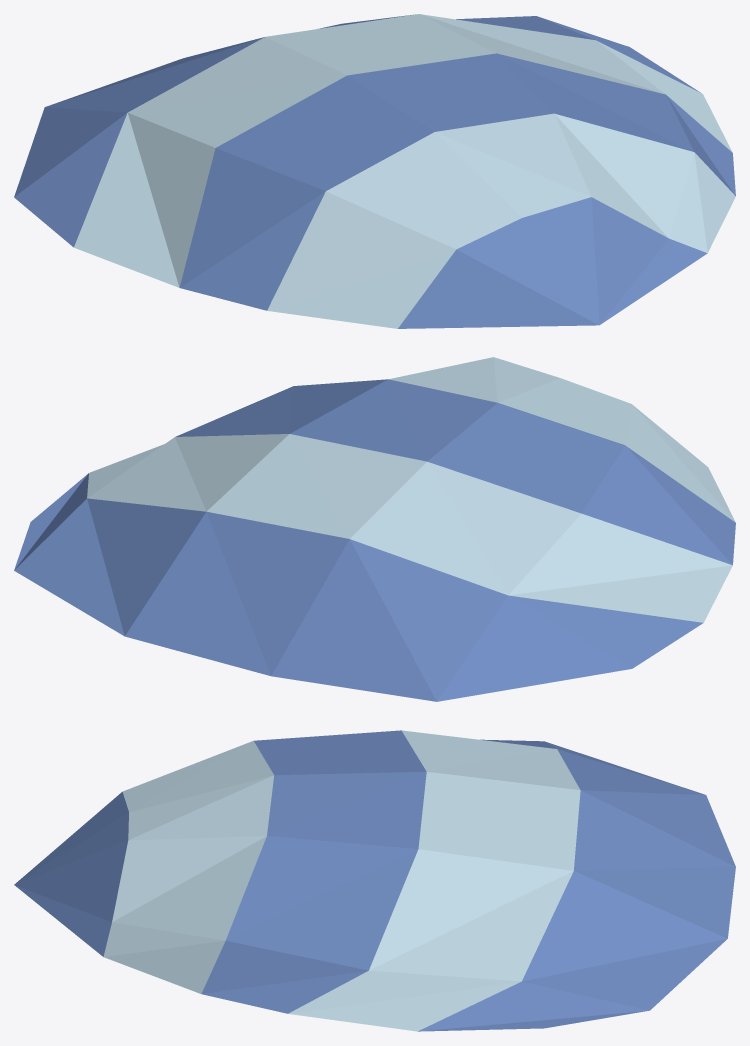
The model's file is zhuangshi_03.FBX.
3 views of the same model, one above another, from view 1: azimuth 30°, elevation 25°; view 2: azimuth 150°, elevation 25°; view 3: azimuth 270°, elevation 25° (orthographic). The views are drawn at different scales.
Parts seen in each view (by area): view 1: zhuangshi_03; view 2: zhuangshi_03; view 3: zhuangshi_03.
Part boxes in pixels (bbox=[...]): zhuangshi_03: bbox=[14, 14, 735, 328]; zhuangshi_03: bbox=[14, 357, 735, 701]; zhuangshi_03: bbox=[14, 730, 735, 1031].
Bounding box in the file's own units: 124 × 18.91 × 129.
